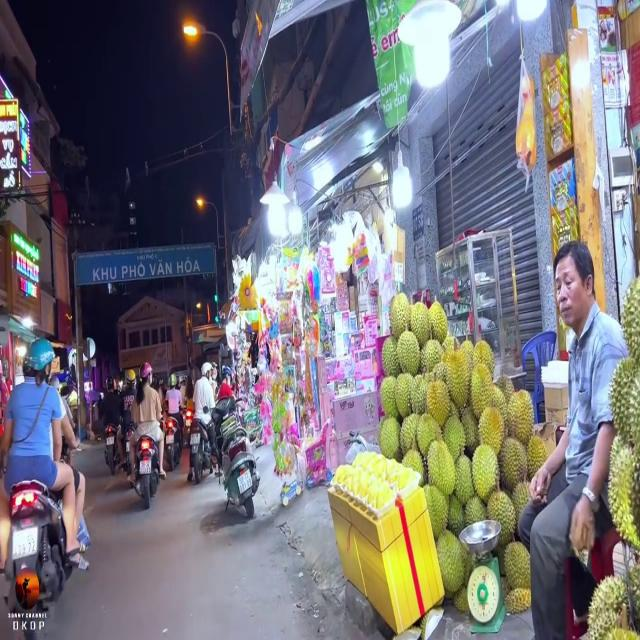bien_trang: (12, 527, 40, 557), (234, 475, 256, 495)
